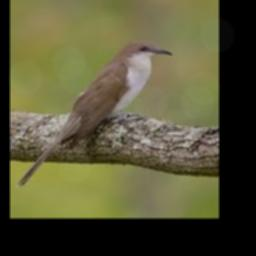Cuckoo: (16, 40, 173, 188)
